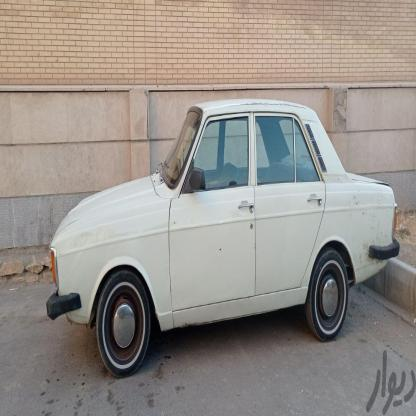Car: (38, 75, 400, 386)
